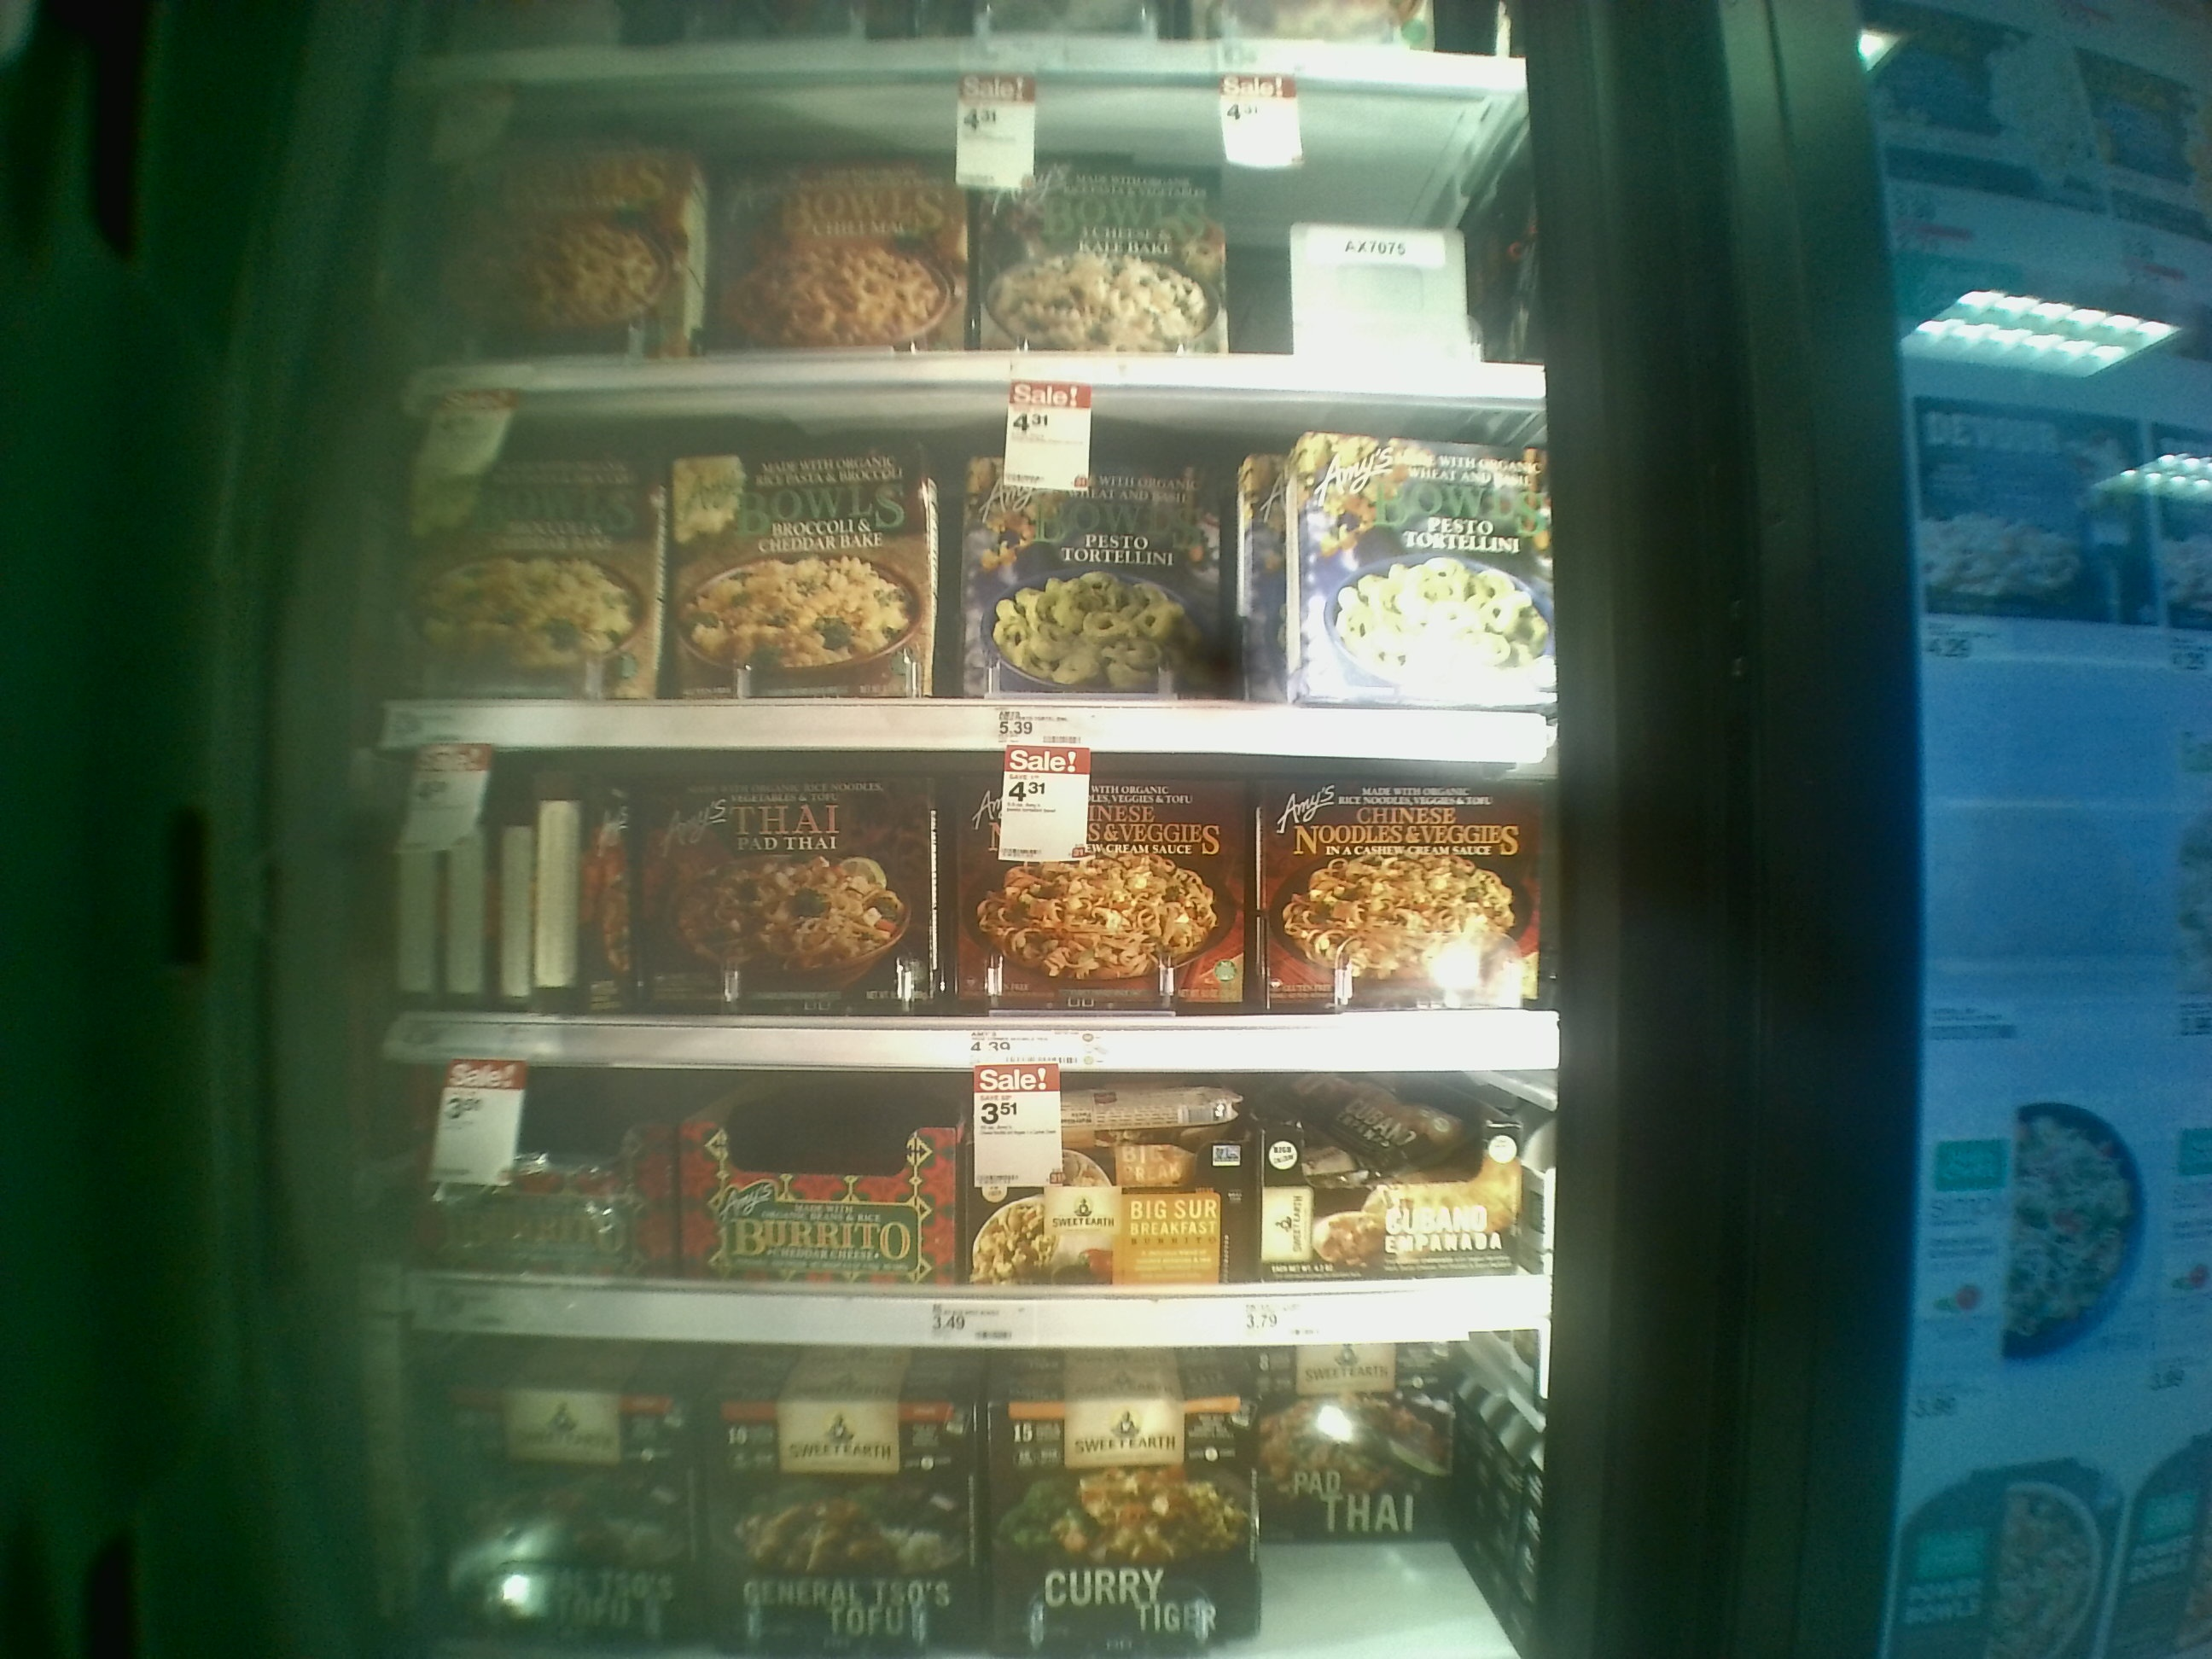shelf: (387, 399, 1550, 748), (397, 84, 1545, 399), (387, 1047, 1543, 1331), (381, 744, 1550, 1014)
